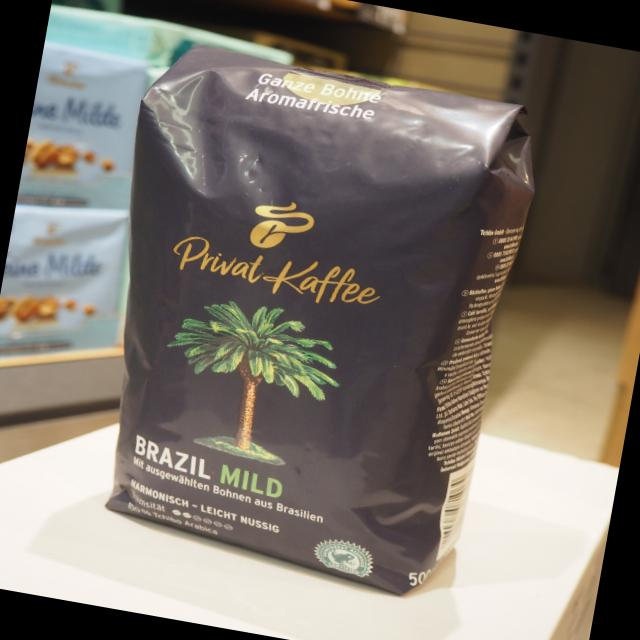BM Bohne: (54, 30, 556, 614)
